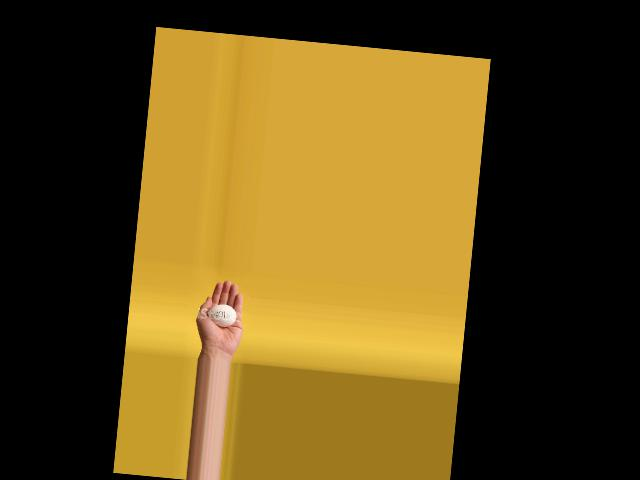egg: (207, 303, 237, 327)
